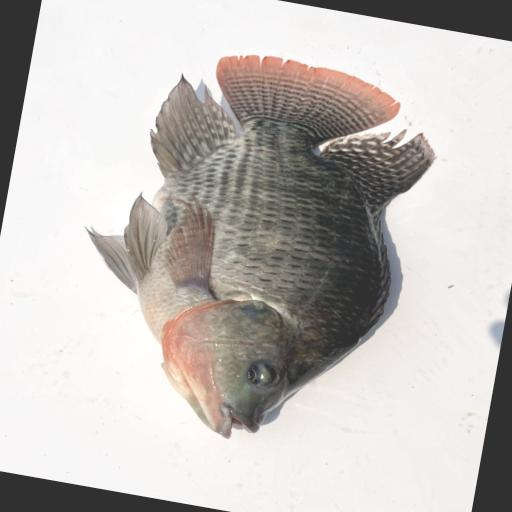Tilapia: (52, 29, 449, 466)
